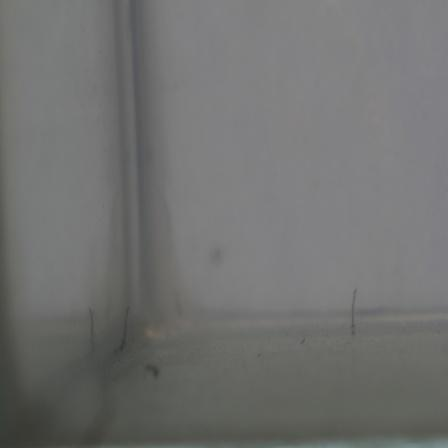Jentik-Nyamuk: (344, 286, 366, 337), (115, 304, 135, 356)
